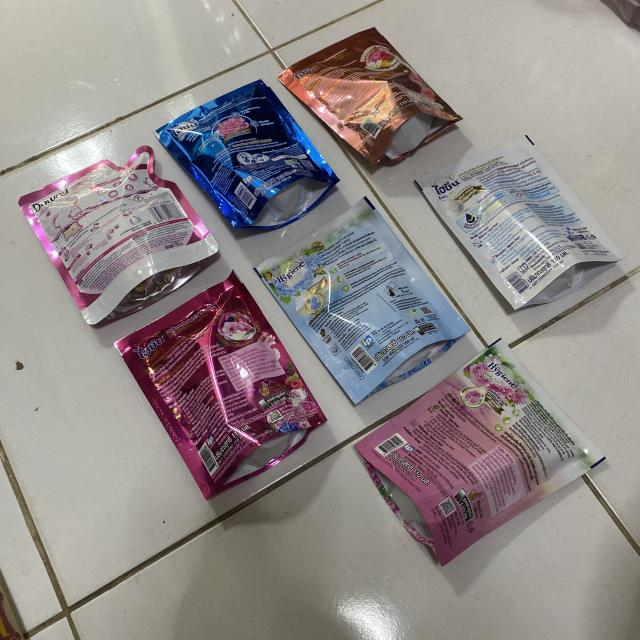plastik: (356, 339, 605, 565), (115, 272, 326, 499), (256, 198, 469, 402), (415, 135, 624, 309), (19, 146, 218, 324), (156, 80, 338, 229), (278, 28, 462, 164)
